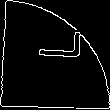L_W: (28, 38, 82, 72)
